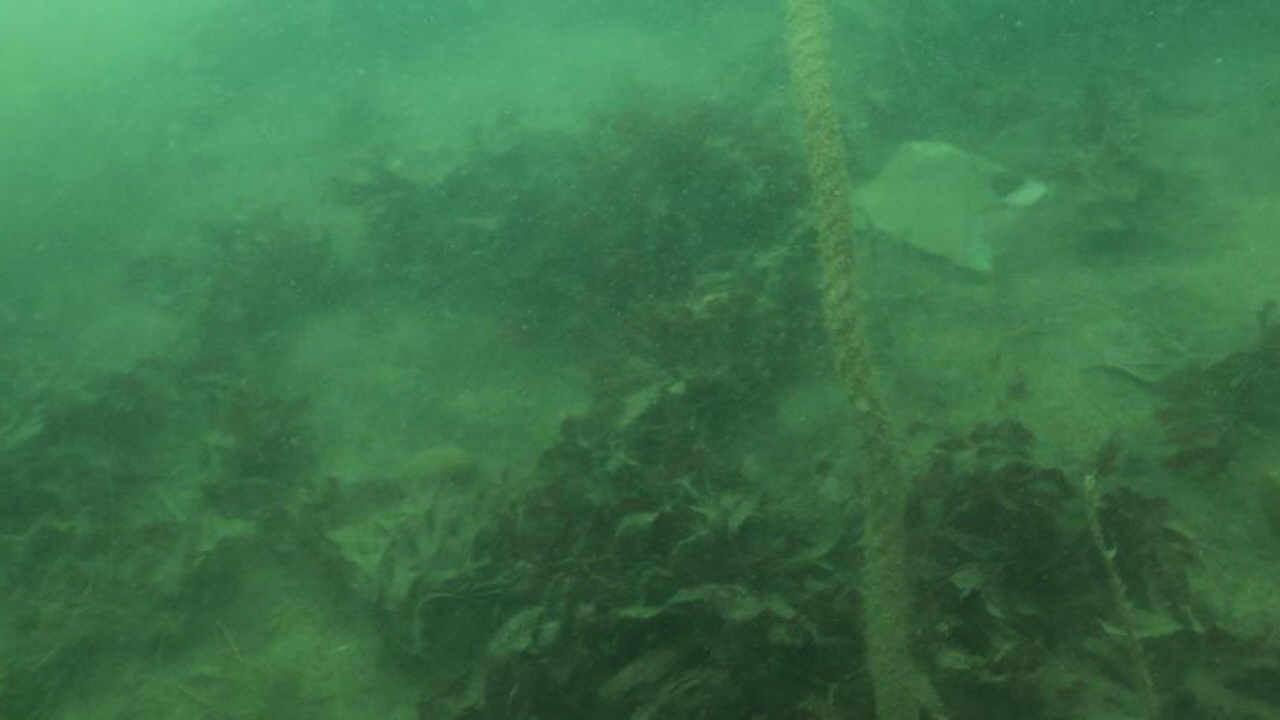rope: (782, 0, 921, 720)
